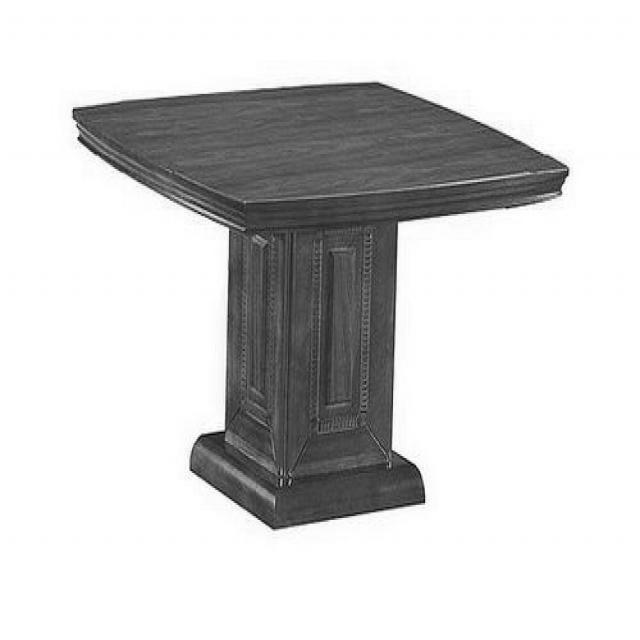table: (73, 80, 570, 534)
